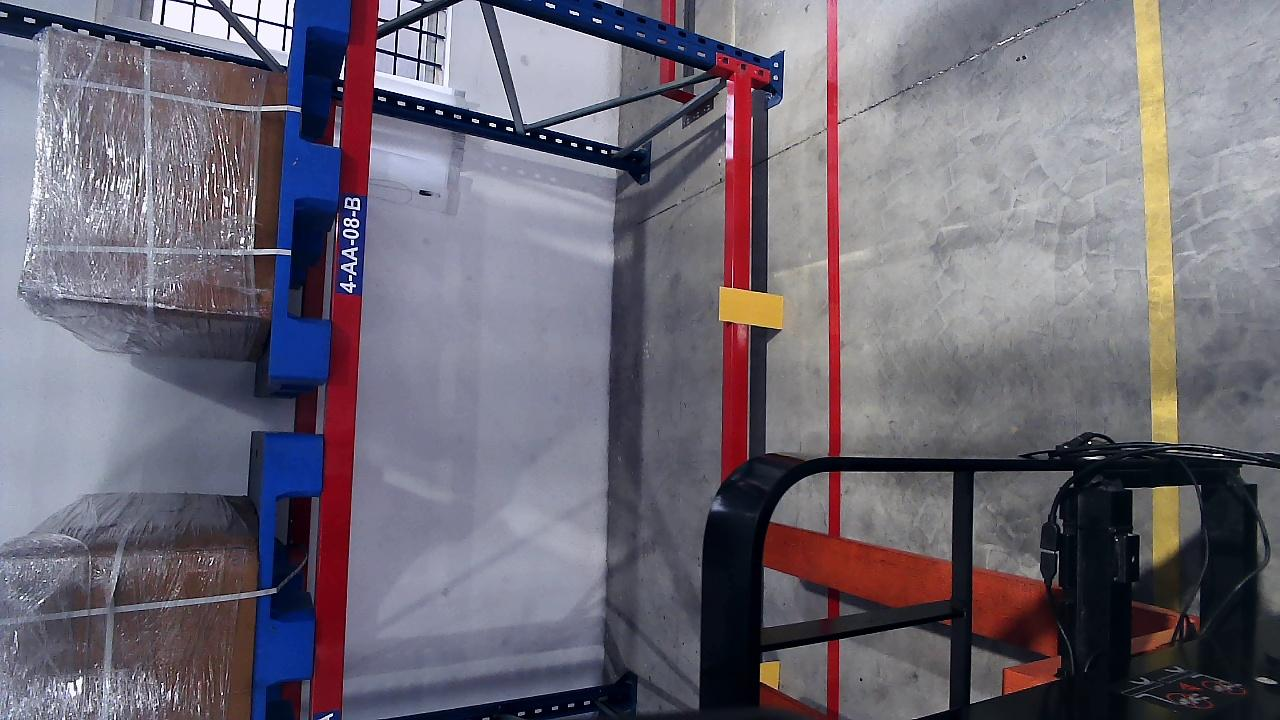h_rack: (330, 0, 372, 717), (726, 75, 757, 464)
orange_strip: (719, 285, 784, 328), (759, 661, 780, 688)
red_line: (822, 6, 844, 421)
small_pallet: (271, 0, 351, 383), (252, 434, 327, 720)
yellow_line: (1134, 0, 1180, 443)
